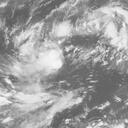cyclone: (16, 26, 88, 90)
